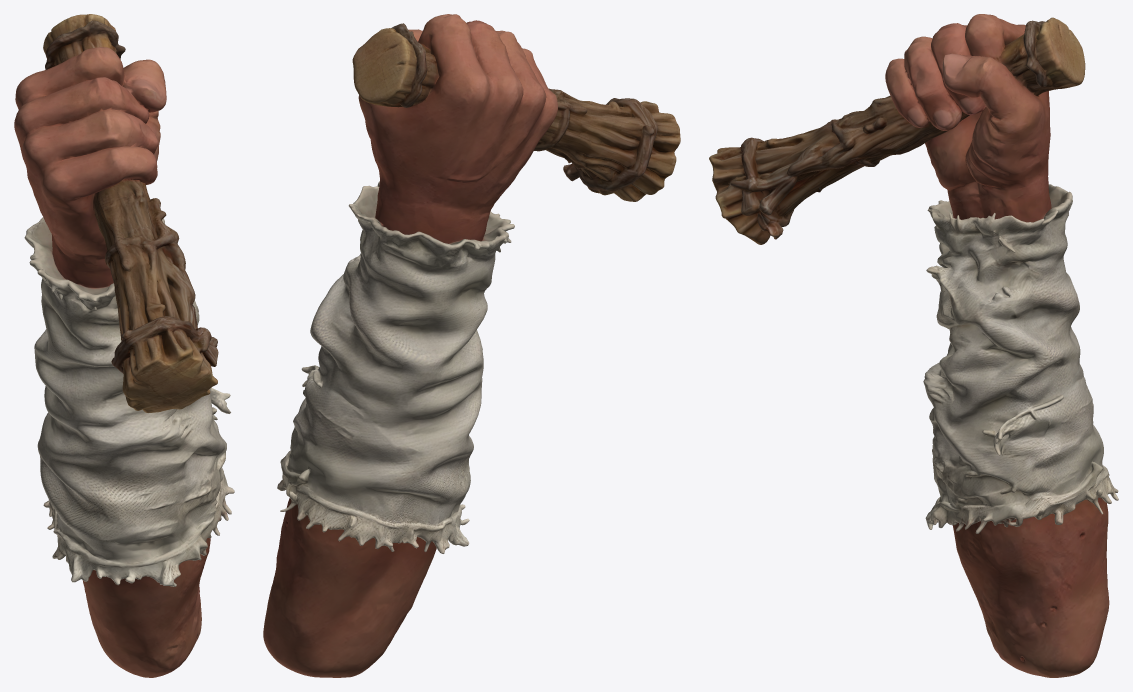
3 views of the same model, side by side, from view 1: azimuth 30°, elevation 25°; view 2: azimuth 150°, elevation 25°; view 3: azimuth 270°, elevation 25° (orthographic). The views are drawn at different scales.
Visible parts, largest first — view 1: tripo_node_669623d2-a41f-4cf9-88ff-93c248f02a1f; view 2: tripo_node_669623d2-a41f-4cf9-88ff-93c248f02a1f; view 3: tripo_node_669623d2-a41f-4cf9-88ff-93c248f02a1f.
Boxes of the visible parts, box(x1,y1,x2,y2) form: tripo_node_669623d2-a41f-4cf9-88ff-93c248f02a1f: box(14, 14, 234, 677); tripo_node_669623d2-a41f-4cf9-88ff-93c248f02a1f: box(263, 14, 680, 677); tripo_node_669623d2-a41f-4cf9-88ff-93c248f02a1f: box(709, 14, 1118, 677).
Size of the model in its own units: 0.3808 by 1 by 0.5972.
Materials: 1 (1 with a texture image).
